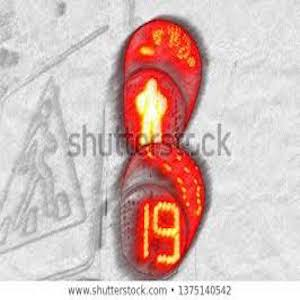red: (130, 74, 169, 149)
